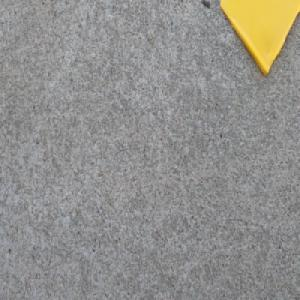PlasticPart: (219, 0, 300, 79)
